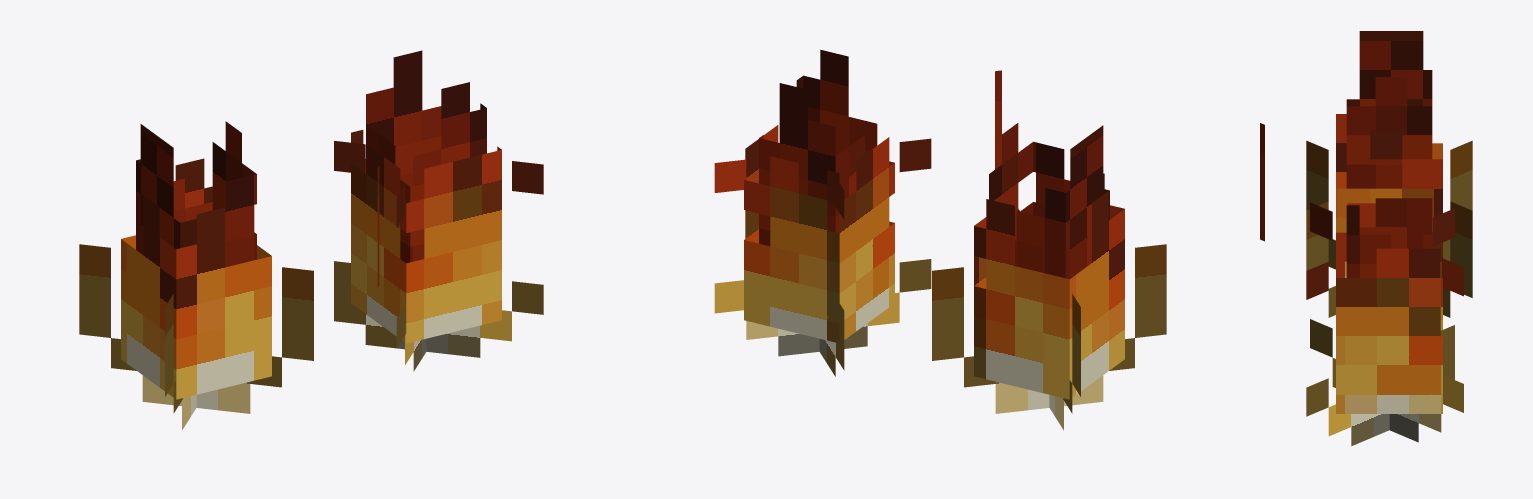
The model's file is sl_fire_fists.glb.
3 renders of one model, left to right at view 1: azimuth 30°, elevation 25°; view 2: azimuth 150°, elevation 25°; view 3: azimuth 270°, elevation 25°, orthographic. The views are drawn at different scales.
Visible parts, largest first — view 1: bb_fire_fists; view 2: bb_fire_fists; view 3: bb_fire_fists.
Part boxes in pixels (x1,y1,x2,y2): bb_fire_fists: [79, 50, 543, 430]; bb_fire_fists: [714, 49, 1166, 430]; bb_fire_fists: [1260, 31, 1472, 446].
Bounding box in the file's own units: 1.5 × 0.875 × 0.7544.
1 material, 1 textured.
